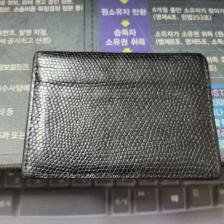wallet: (18, 47, 223, 182)
